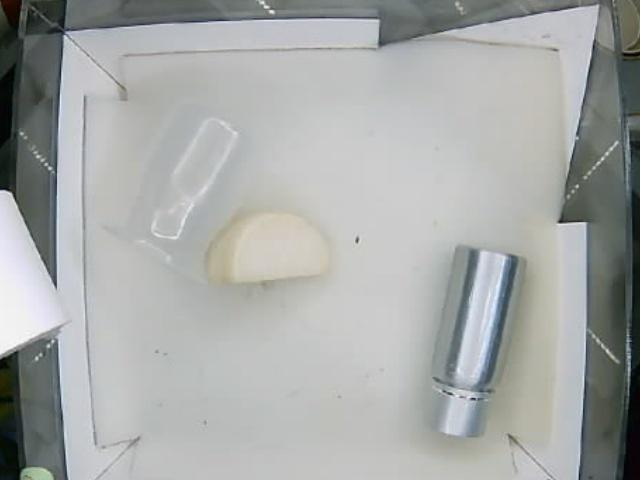Bottle: (106, 104, 252, 273), (430, 246, 527, 447)
Mooli: (203, 208, 333, 281)
